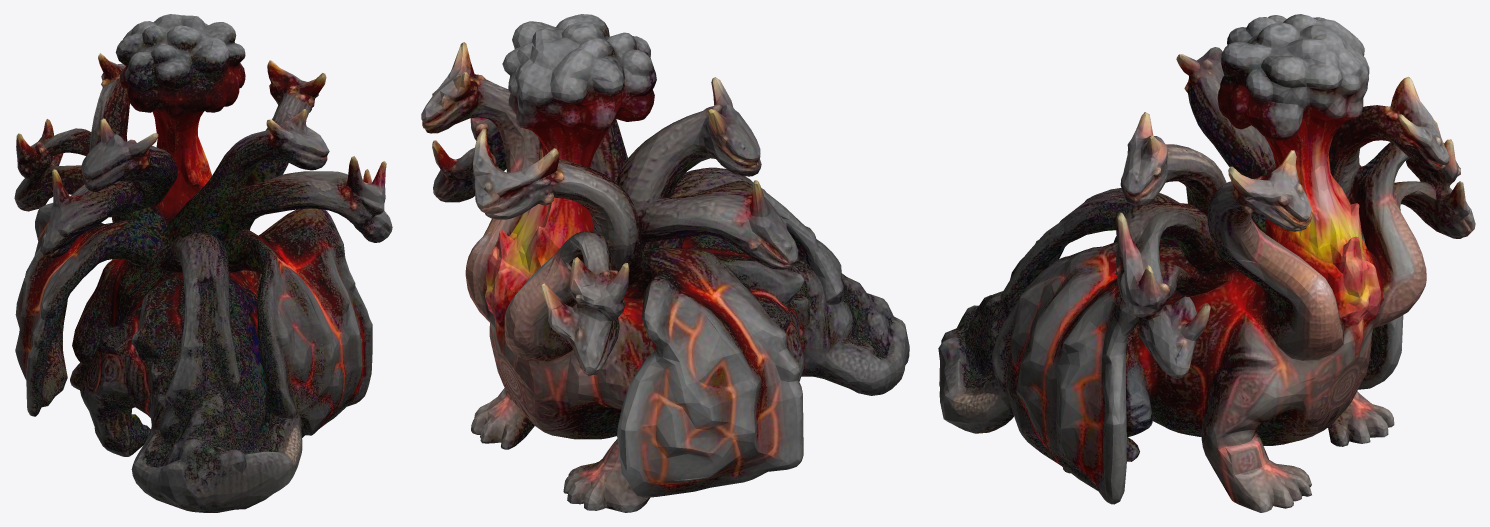
File: smolderhead__vesuvianHydra.glb
3 renders of one model, left to right at view 1: azimuth 30°, elevation 25°; view 2: azimuth 150°, elevation 25°; view 3: azimuth 270°, elevation 25°, orthographic. The views are drawn at different scales.
Visible parts, largest first — view 1: world; view 2: world; view 3: world.
Boxes of the visible parts, <box> form: world: <box>14,14,392,512</box>; world: <box>421,14,909,512</box>; world: <box>938,14,1475,512</box>.
Bounding box in the file's own units: 0.8637 × 0.8995 × 0.9992.
1 material, 1 textured.
